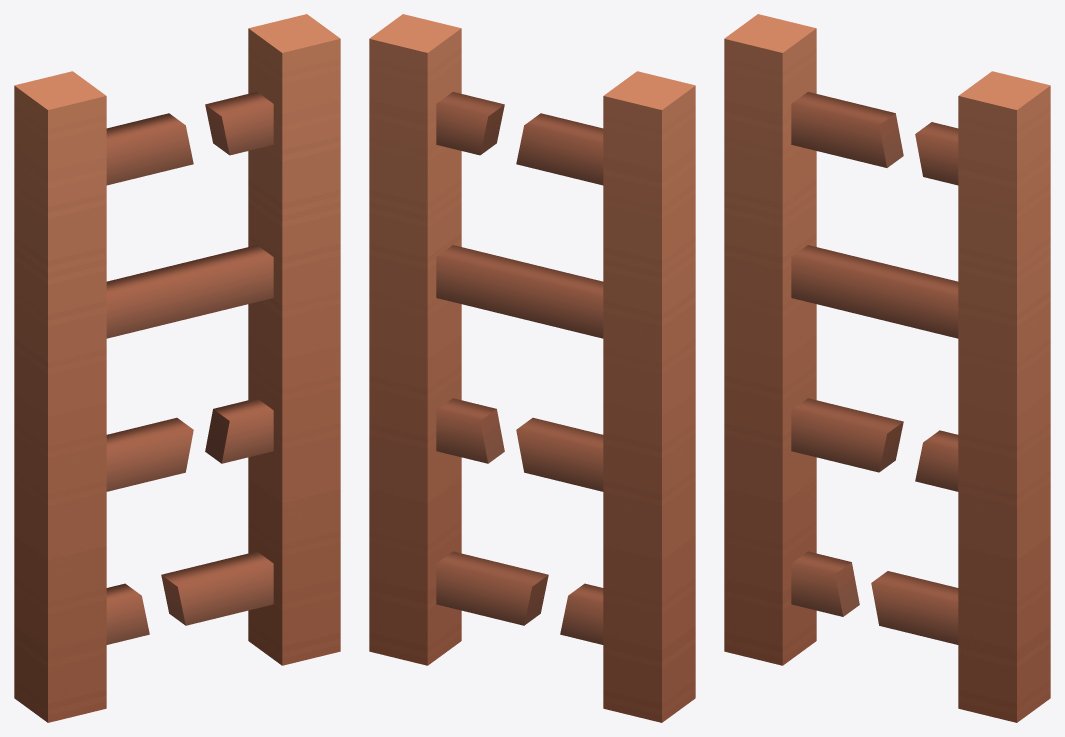
Rendered from ladder-broken.glb.
The picture shows the model from 3 angles, left to right: view 1: azimuth 30°, elevation 25°; view 2: azimuth 150°, elevation 25°; view 3: azimuth 330°, elevation 25°; orthographic projection.
Parts seen in each view (by area): view 1: ladder-broken; view 2: ladder-broken; view 3: ladder-broken.
Part boxes in pixels (left/top/right/bottom): ladder-broken: left=14, top=14, right=340, bottom=722; ladder-broken: left=369, top=14, right=695, bottom=722; ladder-broken: left=724, top=14, right=1050, bottom=722.
Bounding box in the file's own units: 0.5 × 1 × 0.1.
Materials: 1 (1 with a texture image).
